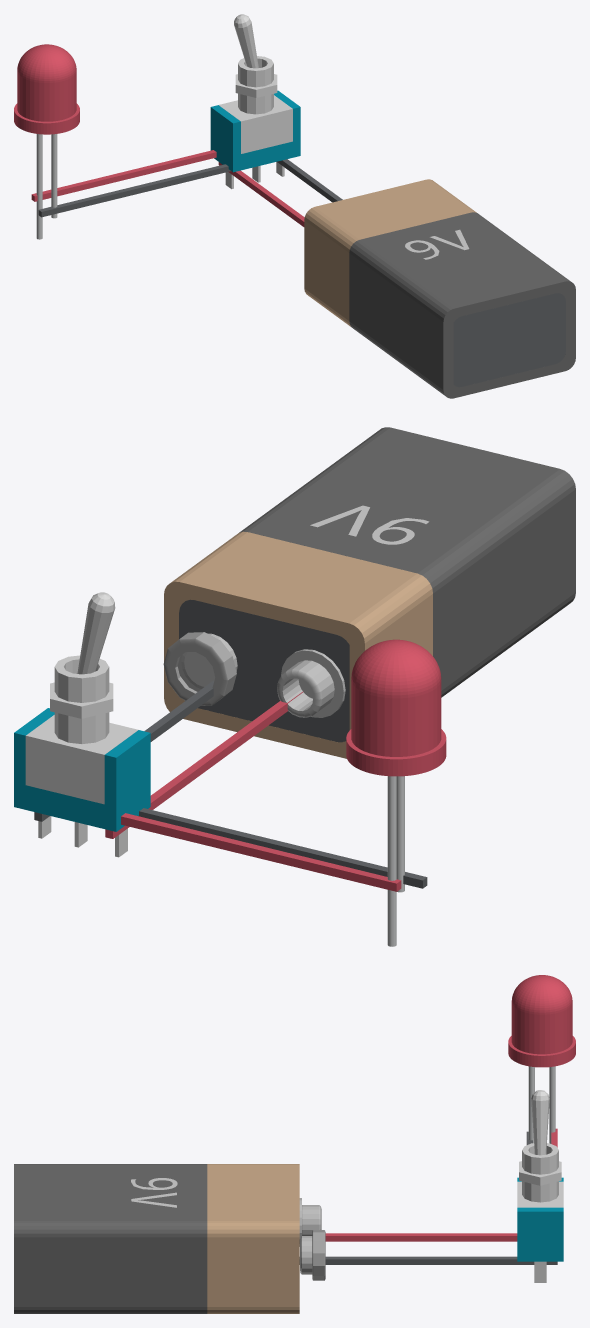
Rendered from asset.glb.
The picture shows the model from 3 angles, top to bottom: view 1: azimuth 30°, elevation 25°; view 2: azimuth 150°, elevation 25°; view 3: azimuth 270°, elevation 25°; orthographic projection. The views are drawn at different scales.
Visible parts, largest first — view 1: Mesh_Mesh_head_geo.001_lambert2SG.001; view 2: Mesh_Mesh_head_geo.001_lambert2SG.001; view 3: Mesh_Mesh_head_geo.001_lambert2SG.001.
Part boxes in pixels (x1=…): Mesh_Mesh_head_geo.001_lambert2SG.001: x1=14, y1=14, x2=575, y2=398; Mesh_Mesh_head_geo.001_lambert2SG.001: x1=14, y1=427, x2=575, y2=946; Mesh_Mesh_head_geo.001_lambert2SG.001: x1=14, y1=975, x2=575, y2=1313.
Size of the model in its own units: 57.75 by 36.57 by 91.33.
